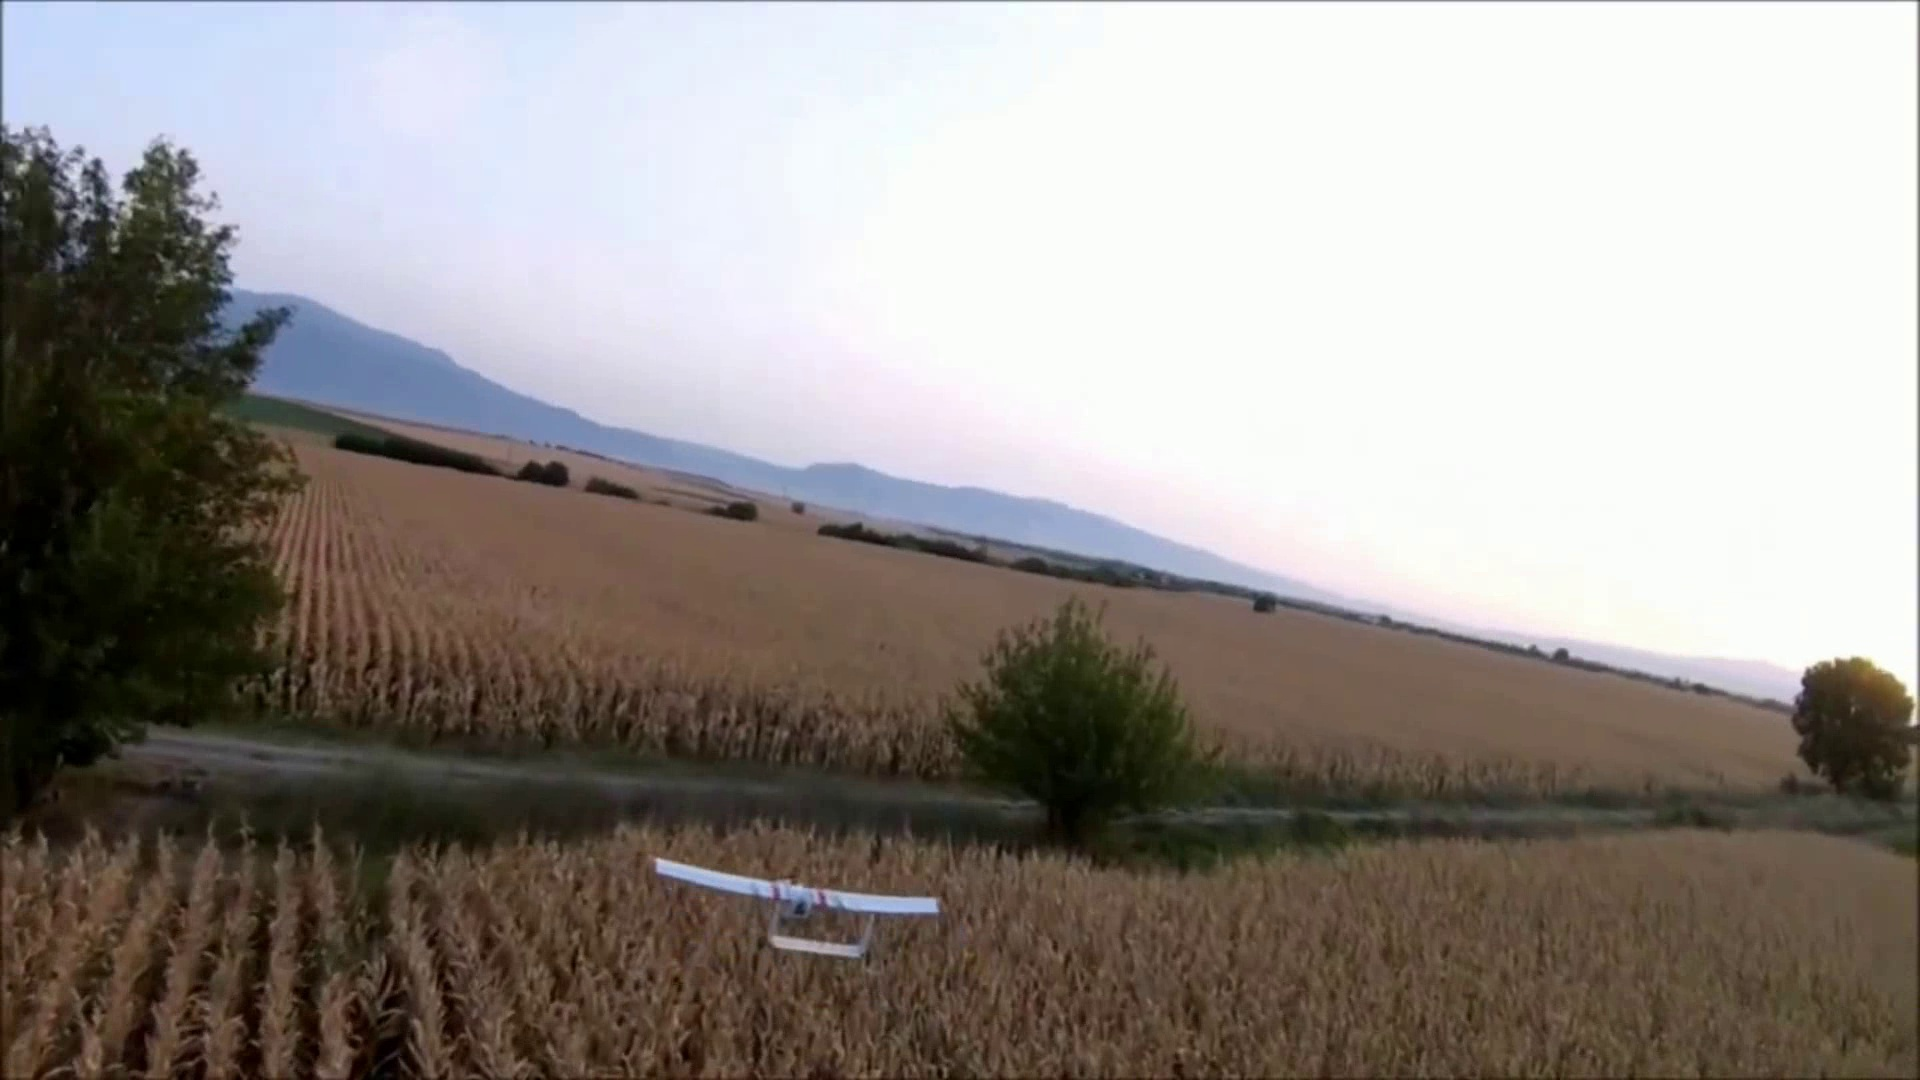airplane: (651, 861, 940, 966)
